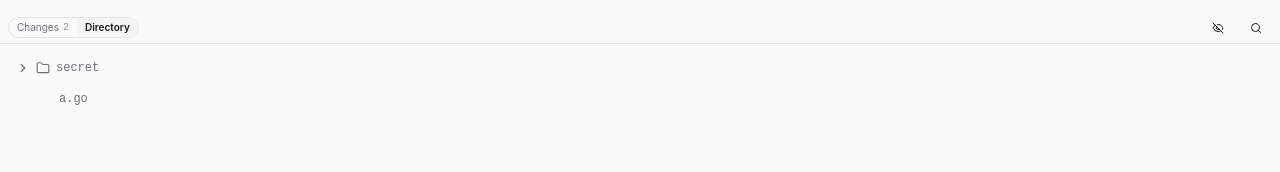
FilesPanel directory mode › keeps the rest of the tree usable when one sub-directory fails to read, and retries it on re-expand
Click the button with aria-label "expand secret". click: (78, 68)
box: [16,54,1238,82]
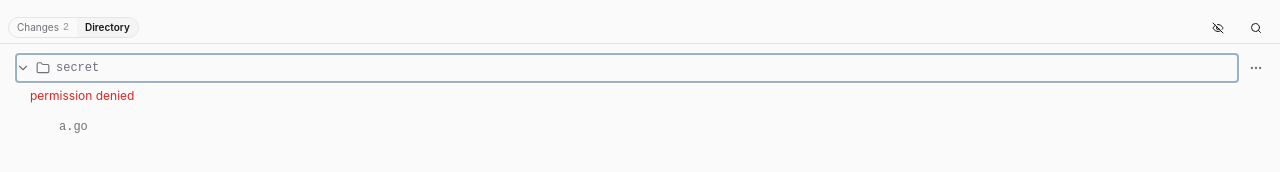
Expected: the text "a.go" is shown, [59,118,88,134]
Now the message reads "permission denied", box [30,88,134,103]
Click the button with aria-label "collapse secret". click: (78, 68)
box: [16,54,1238,82]
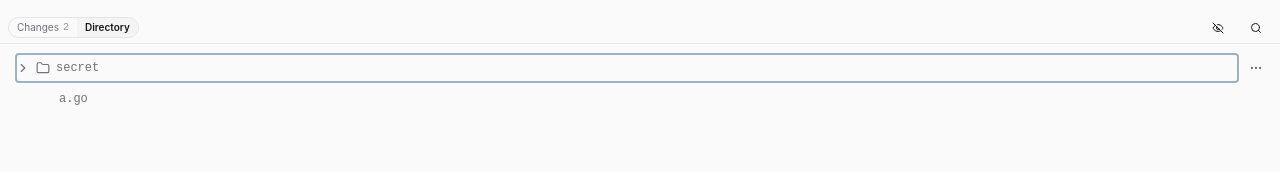
Click the button with aria-label "expand secret". click: (78, 68)
box: [16,54,1238,82]
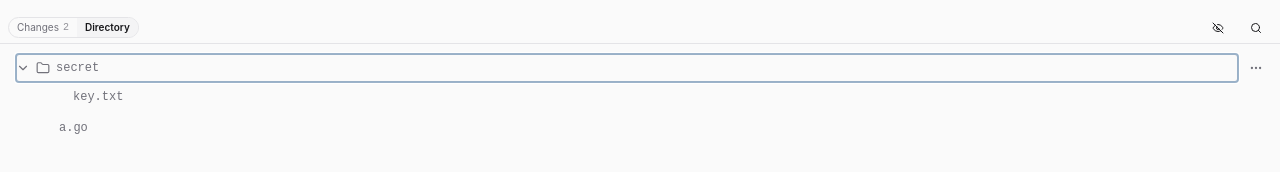
Expected: the message "permission denied" is not shown
Now the text "key.txt" is shown, box [73,88,123,104]
